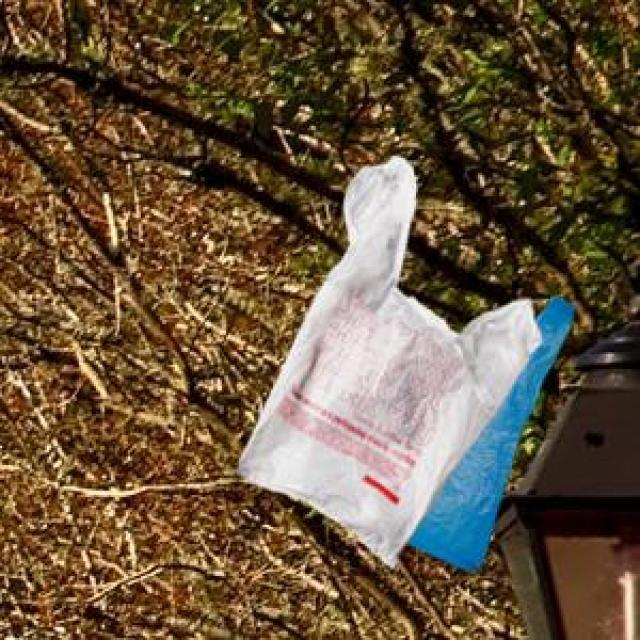waste: (239, 158, 574, 569)
